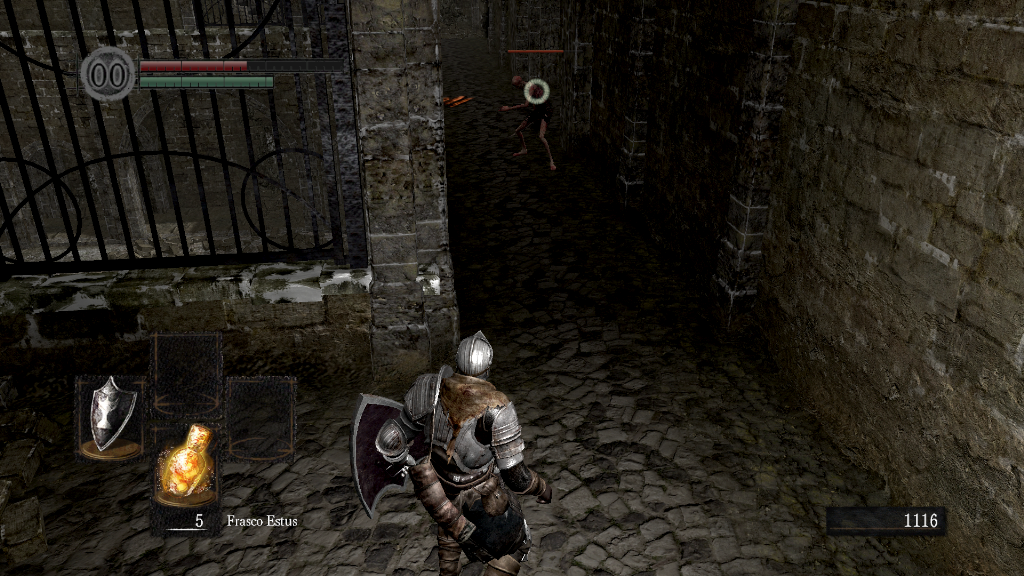health: (138, 58, 343, 71)
hollow: (500, 73, 561, 172)
humanity: (80, 45, 136, 102)
player: (348, 329, 557, 576)
souls: (825, 506, 945, 536)
stamina: (138, 74, 274, 88)
